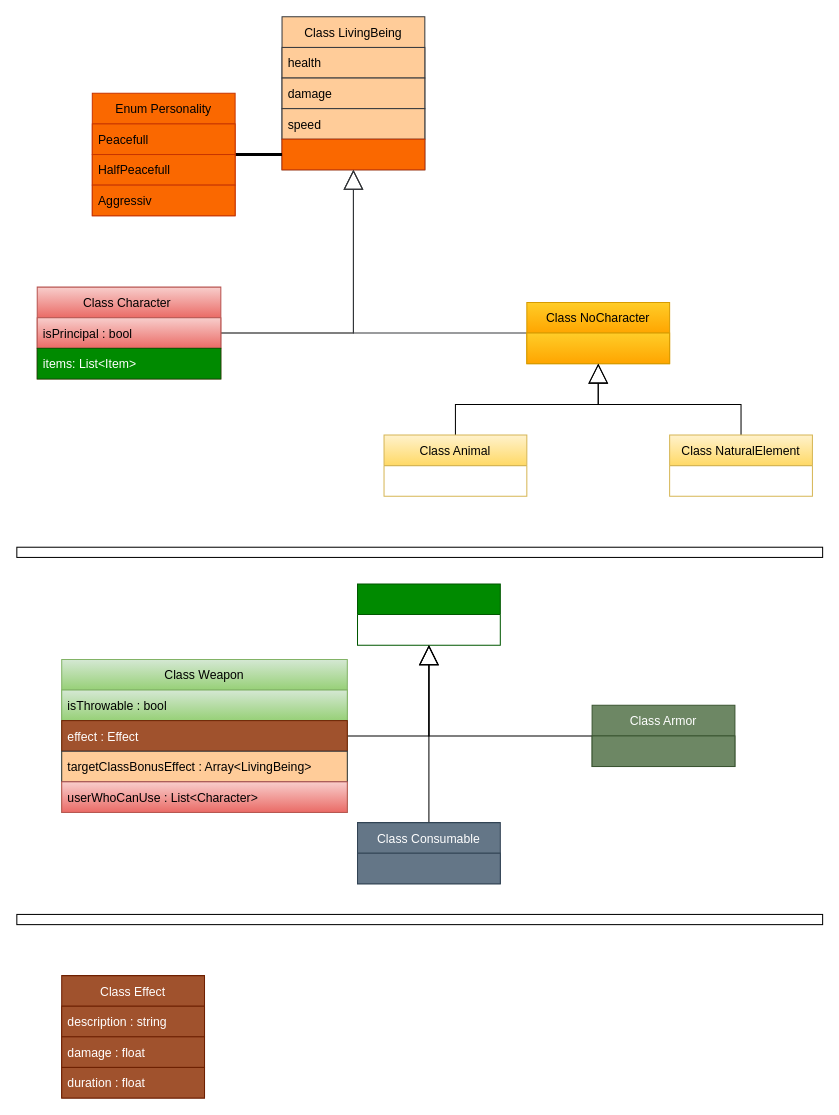
This 839x1115 diagram has some shape labels left out. The shapes that lost their labels are listed below. From the top down, each one's centre as x and y in pixels, then its label:
(353,154): personality : Personality
(598,348): destructionPower : float
(428,614): Class Item
(663,751): defense
(428,868): healing : flloat
